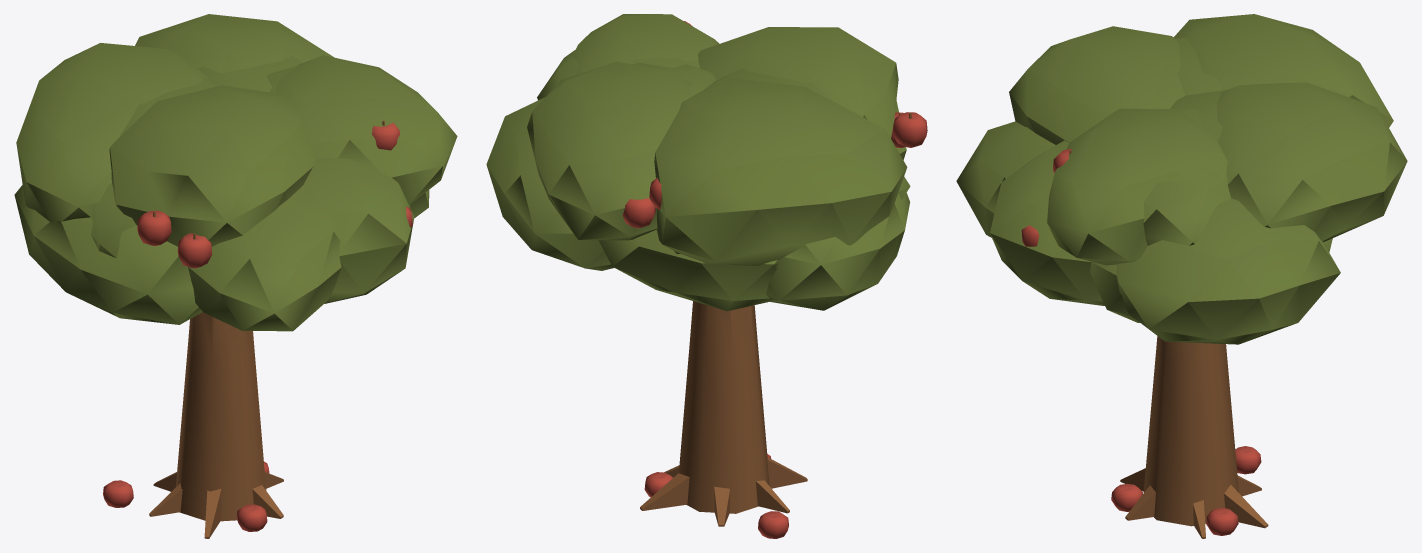
File: tree_apple_a.glb
The picture shows the model from 3 angles, left to right: view 1: azimuth 30°, elevation 25°; view 2: azimuth 150°, elevation 25°; view 3: azimuth 270°, elevation 25°; orthographic projection.
Parts seen in each view (by area): view 1: tree_apple_a_LOD0; view 2: tree_apple_a_LOD0; view 3: tree_apple_a_LOD0.
Part boxes in pixels (x1,y1,x2,y2): tree_apple_a_LOD0: [14, 14, 457, 538]; tree_apple_a_LOD0: [486, 14, 927, 538]; tree_apple_a_LOD0: [956, 14, 1407, 538].
Size of what is drawn, in the model's own units: 3.93 by 4.23 by 3.88.
